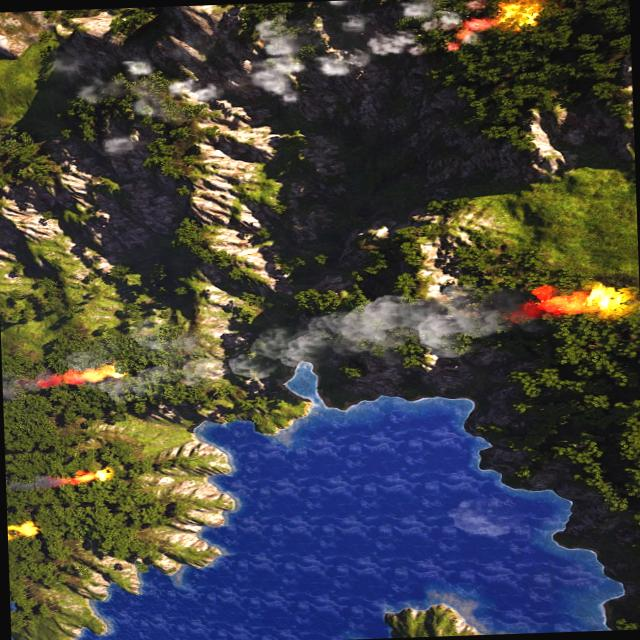fire: (530, 277, 628, 316), (38, 358, 132, 386), (489, 0, 541, 29), (66, 466, 110, 484), (7, 521, 36, 540)
smoke: (150, 284, 522, 388), (245, 0, 494, 109), (77, 54, 218, 153)
